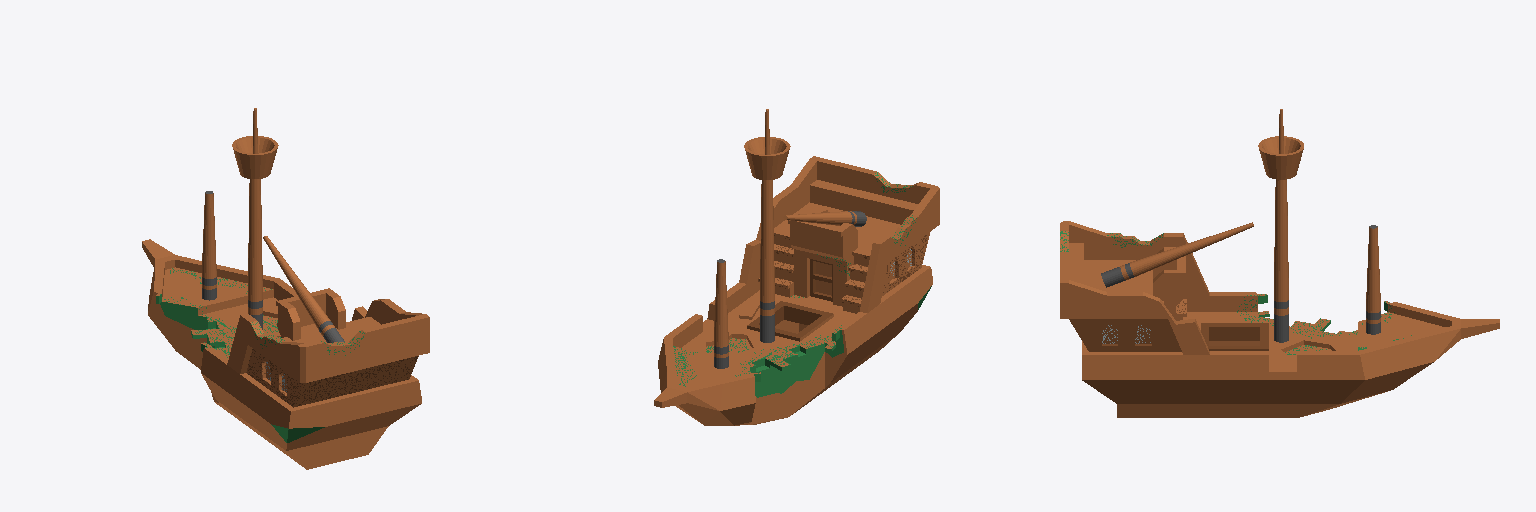
File: ship_wreck.obj
3 views of the same model, side by side, from view 1: azimuth 30°, elevation 25°; view 2: azimuth 150°, elevation 25°; view 3: azimuth 270°, elevation 25° (orthographic).
Visible parts, largest first — view 1: ship_wreck; view 2: ship_wreck; view 3: ship_wreck.
Boxes of the visible parts, x1=… form: ship_wreck: x1=142, y1=108, x2=429, y2=469; ship_wreck: x1=654, y1=109, x2=939, y2=425; ship_wreck: x1=1060, y1=109, x2=1499, y2=417.
Bounding box in the file's own units: 28.5 × 59.21 × 80.49.